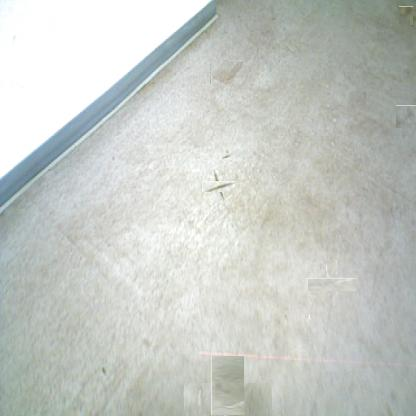liquid: (197, 369, 258, 416), (316, 269, 347, 300), (398, 8, 415, 24)
mark: (210, 60, 242, 84), (208, 176, 229, 198), (396, 105, 416, 128), (223, 151, 233, 161), (101, 366, 107, 376)
